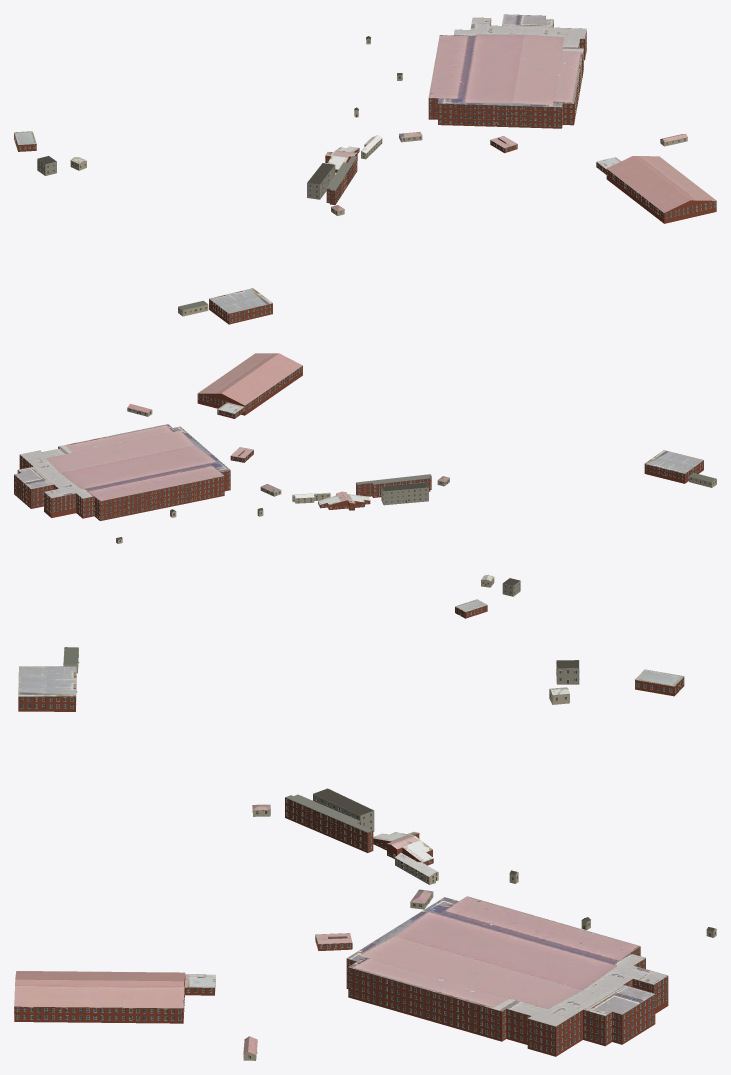
3 views of the same model, one above another, from view 1: azimuth 30°, elevation 25°; view 2: azimuth 150°, elevation 25°; view 3: azimuth 270°, elevation 25° (orthographic). The views are drawn at different scales.
Visible parts, largest first — view 1: -4_1_271954267_0, -4_1_318249786_2, -4_1_1422196005_12; view 2: -4_1_271954267_0, -4_1_318249786_2, -4_1_1422196005_12; view 3: -4_1_271954267_0, -4_1_318249786_2, -4_1_1422196005_12.
Part boxes in pixels (<box>): -4_1_271954267_0: <box>14,14,716,324</box>; -4_1_318249786_2: <box>38,36,687,316</box>; -4_1_1422196005_12: <box>37,159,335,199</box>; -4_1_271954267_0: <box>14,353,716,618</box>; -4_1_318249786_2: <box>116,408,716,587</box>; -4_1_1422196005_12: <box>381,487,520,596</box>; -4_1_271954267_0: <box>14,647,715,1059</box>; -4_1_318249786_2: <box>63,647,716,1060</box>; -4_1_1422196005_12: <box>313,668,579,831</box>.
Bounding box in the file's own units: 516 × 24.77 × 385.
13 materials, 1 textured.
